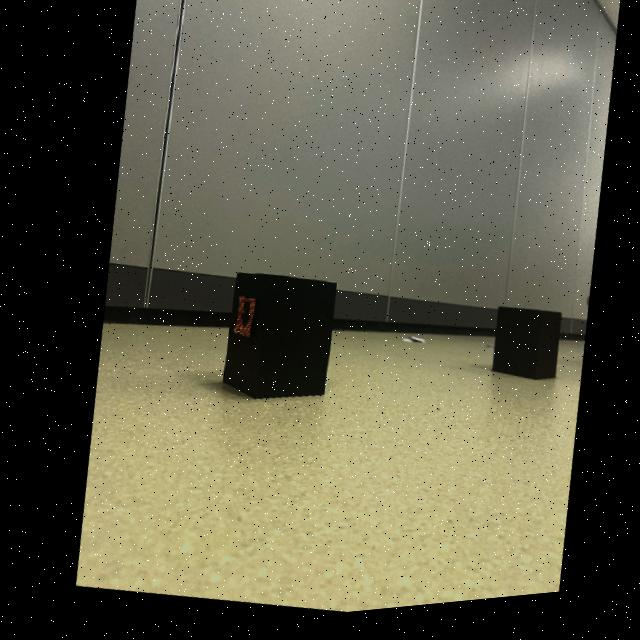DOWN: (234, 306, 245, 333)
